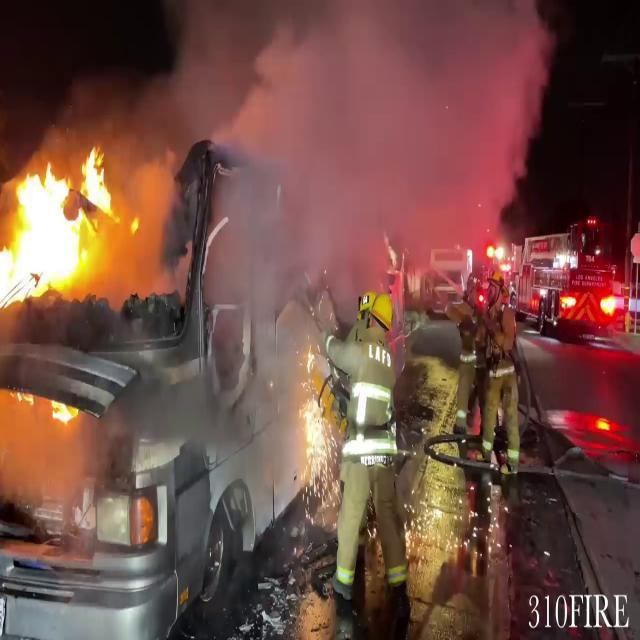Fire: (0, 140, 130, 307)
Smoke: (162, 0, 558, 387)
